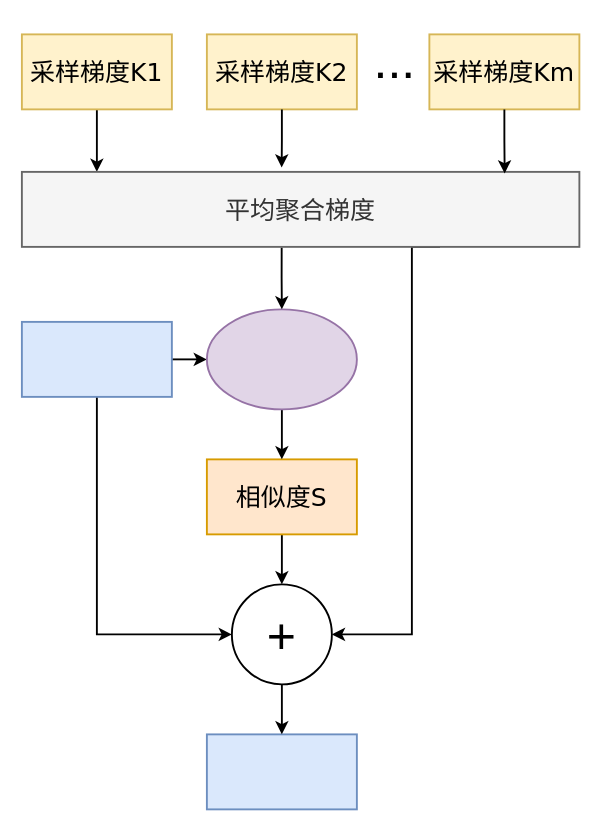
This 603x831 diagram has some shape labels left out. The shapes that lost their labels are listed below. From the top down, each one's centre as x and y in pixels, then its label:
At (96,358): "当前梯度Q".
At (281,359): "J(Q,K1)".
At (281,771): "全局梯度Q".
